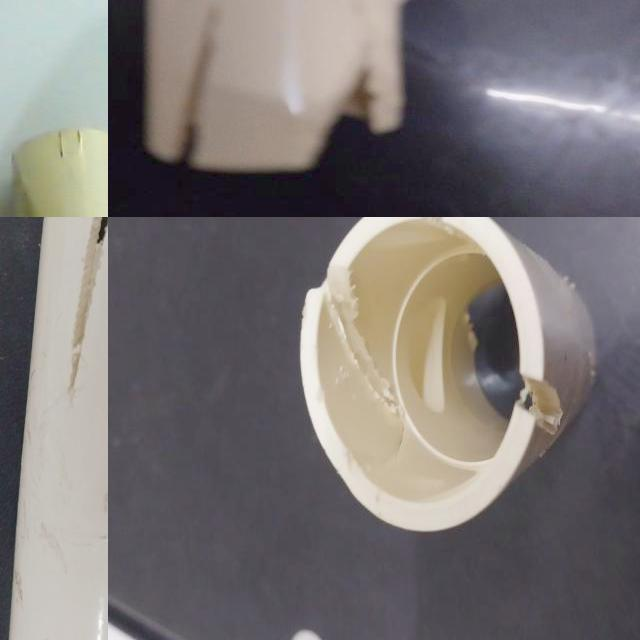Defective: (304, 266, 409, 442), (171, 1, 217, 162), (507, 351, 561, 479), (308, 70, 388, 152), (1, 621, 108, 640), (412, 217, 465, 253)
T Joint: (137, 0, 500, 177), (0, 364, 108, 640), (13, 128, 108, 217)
